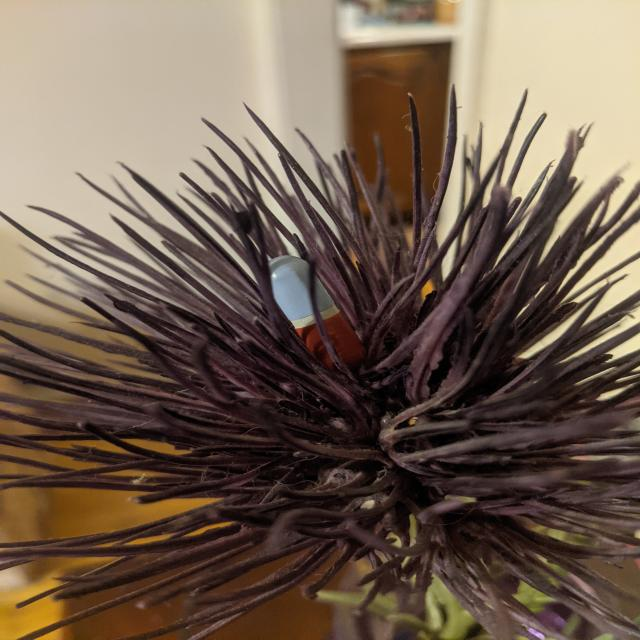non-organic waste: (253, 254, 372, 374)
